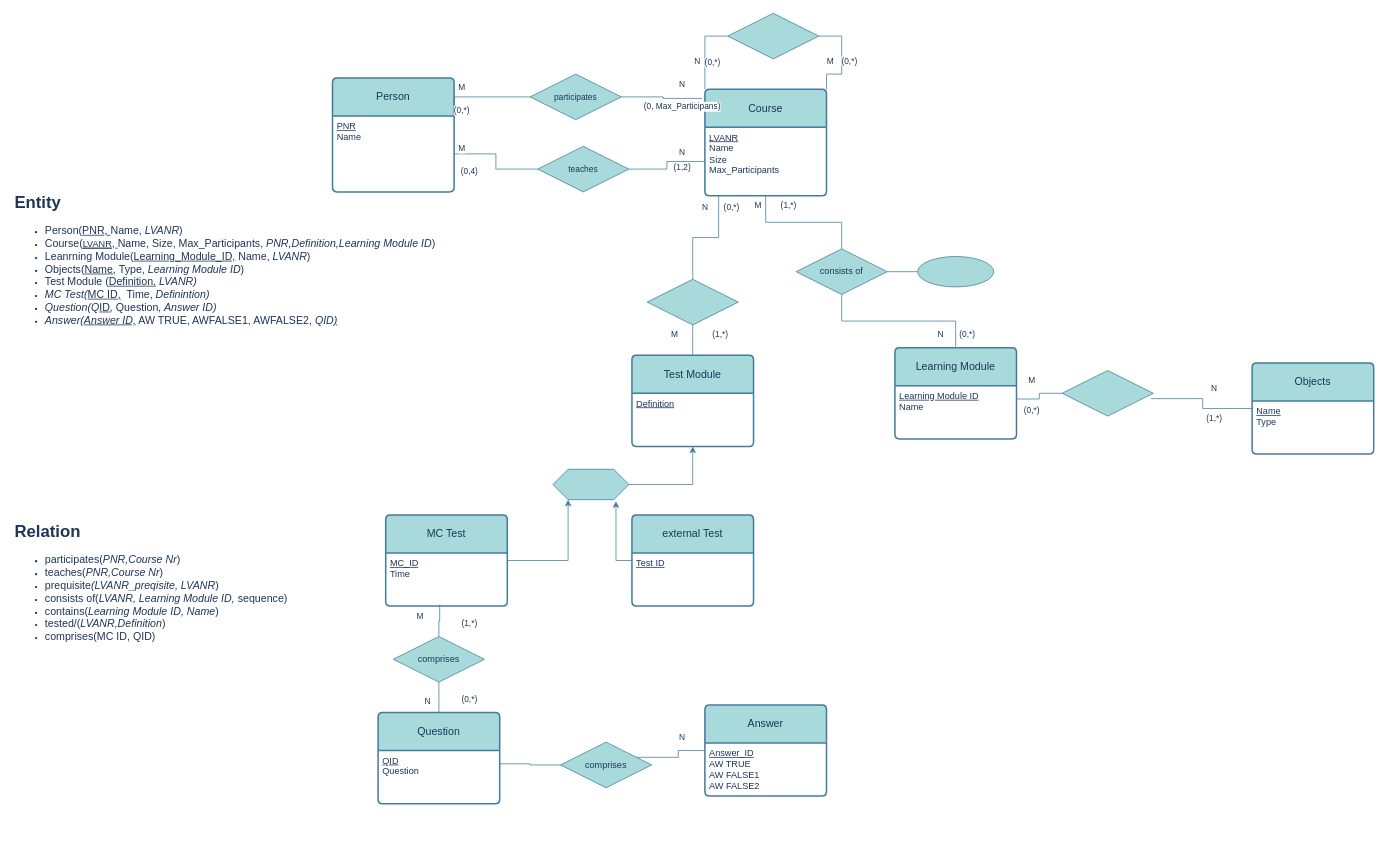
The diagram is 1387 pixels wide and 850 high, and some of its shapes have lost their labels. The centre of each missing label's shape, as x and y in pixels:
"contains" goes at pixel 1107 393.
"is_a" goes at pixel 590 484.
"prequisite" goes at pixel 773 36.
"sequence" goes at pixel 955 271.
"tested" goes at pixel 692 302.
